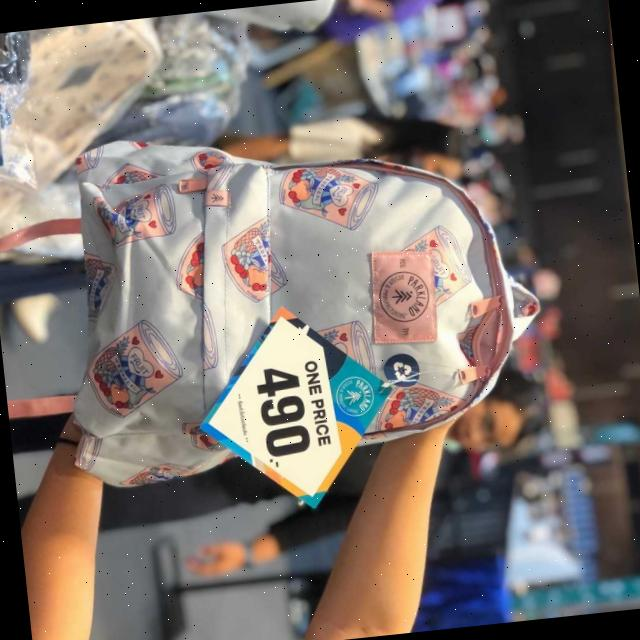Handbag: (36, 99, 531, 489)
